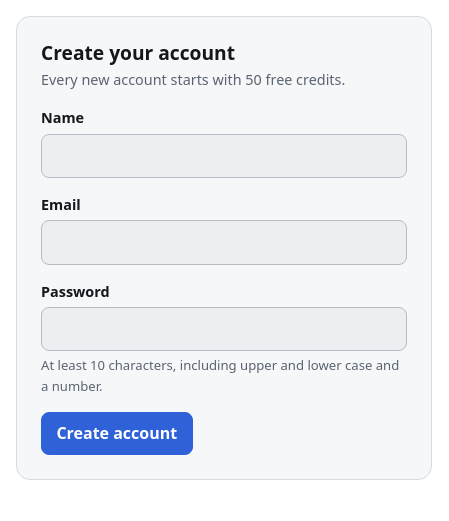
Test case: AuthForm › blocks registration until a name is entered
In the field labelled "Email": [224, 243] box [41, 220, 407, 265], type "ada@example.com"
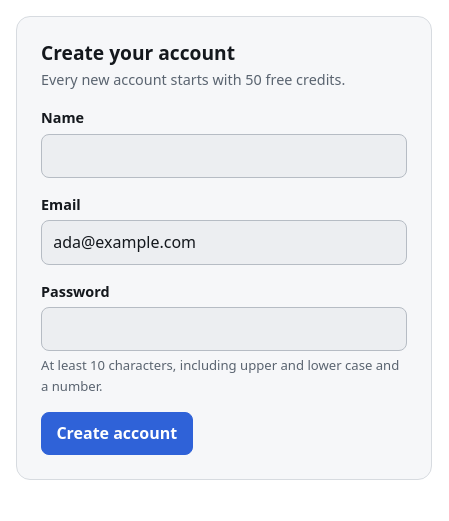
In the password field labelled "Password": [224, 329] box [41, 307, 407, 352], type "Correct-Horse-1"
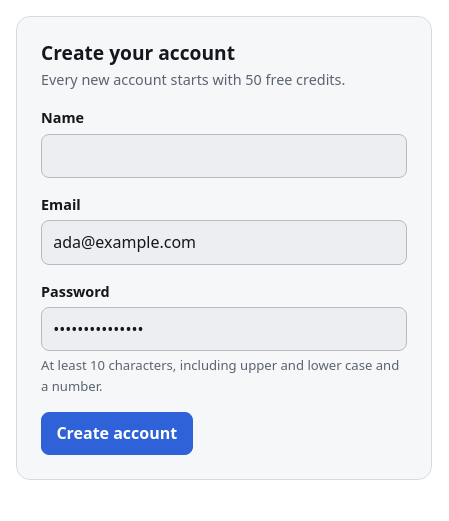
Click the button "Create account": [117, 434] box [41, 412, 193, 455]
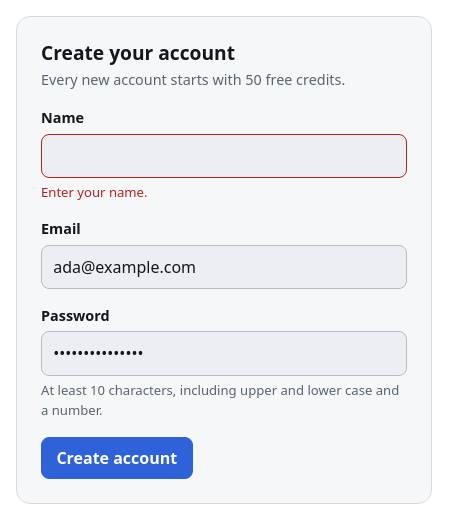
Now the text "Enter your name." is shown, box [41, 183, 148, 201]
